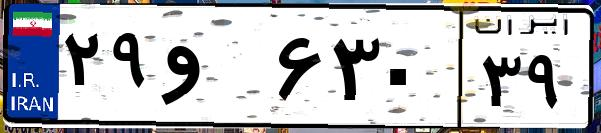0: (385, 28, 445, 110)
2: (57, 26, 110, 100)
3: (330, 28, 385, 110), (475, 38, 525, 113)
6: (270, 28, 330, 110)
9: (525, 38, 570, 115), (110, 28, 158, 98)
و: (158, 20, 270, 120)
